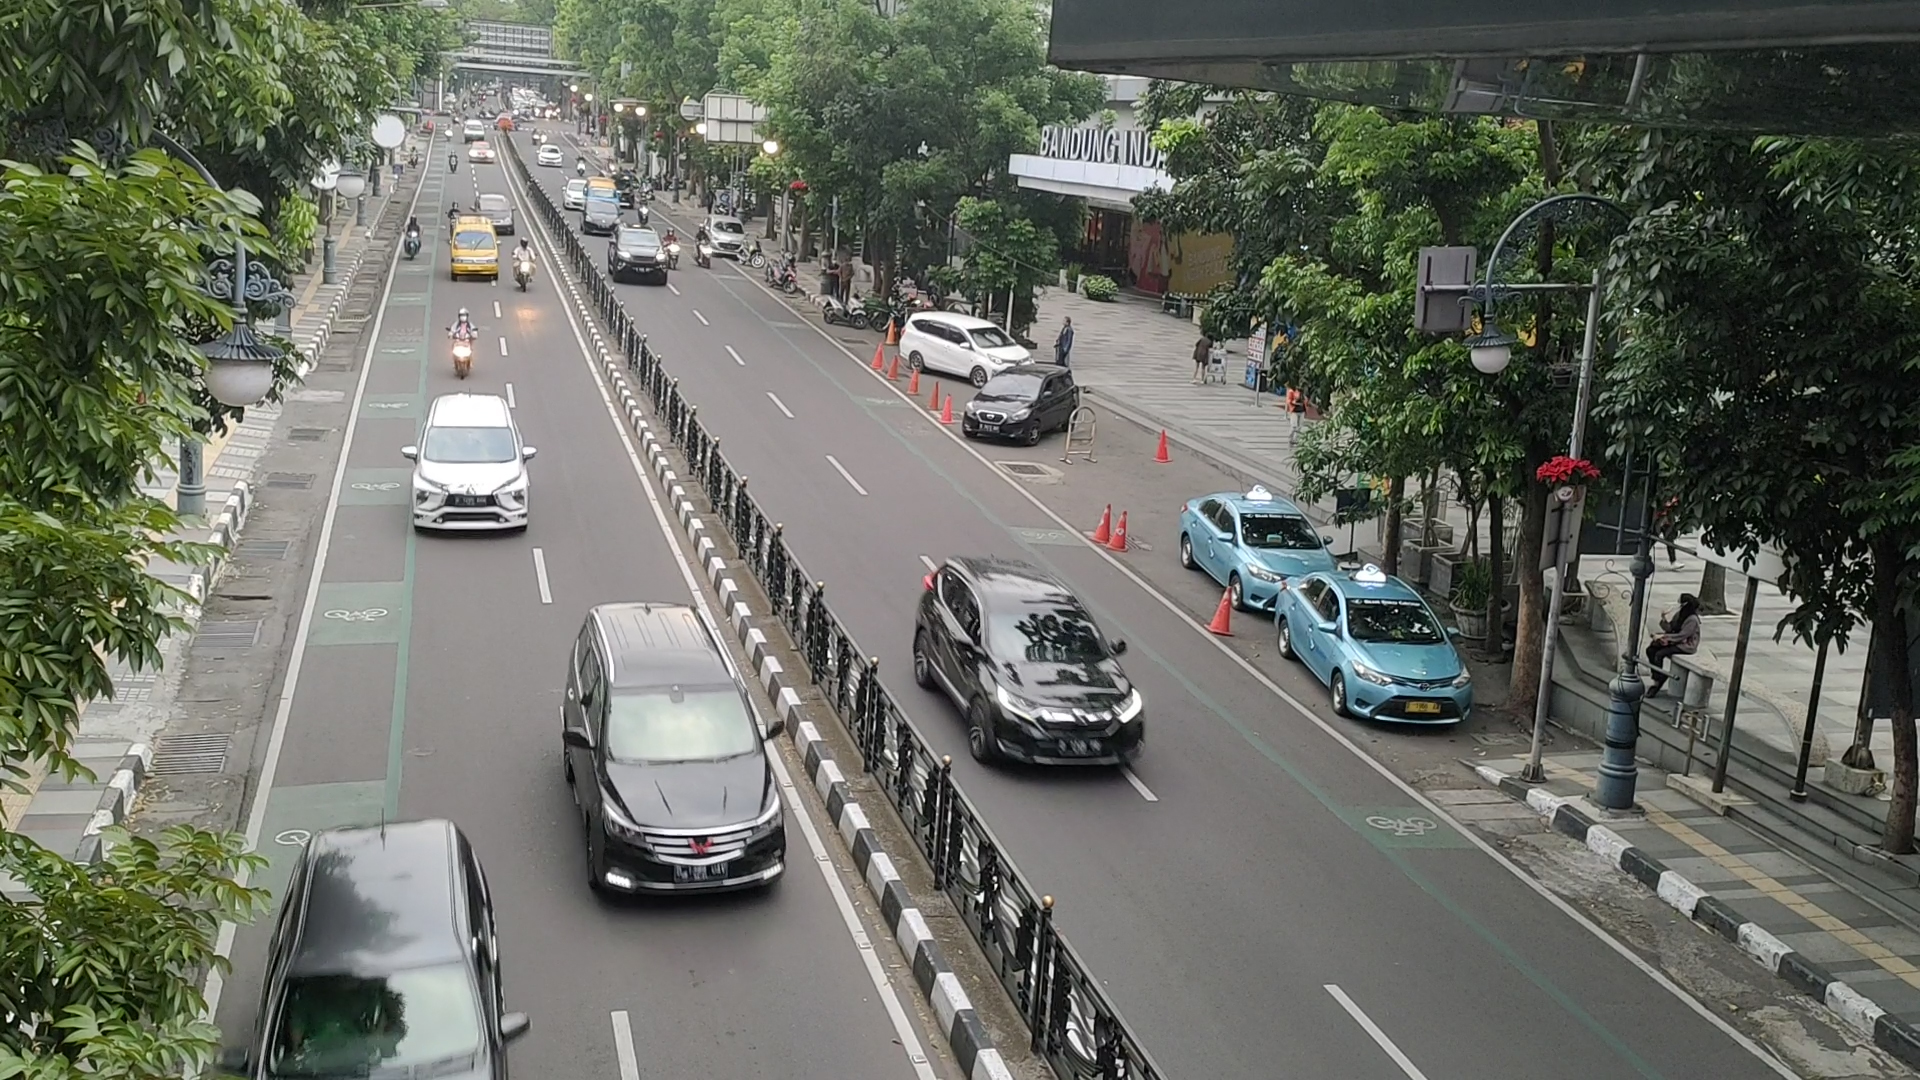mobil: (580, 678, 785, 910), (971, 593, 1147, 783), (1332, 593, 1477, 738), (405, 418, 534, 545), (961, 371, 1054, 448), (953, 319, 1038, 388), (450, 223, 501, 284)
motor: (436, 299, 489, 392)
